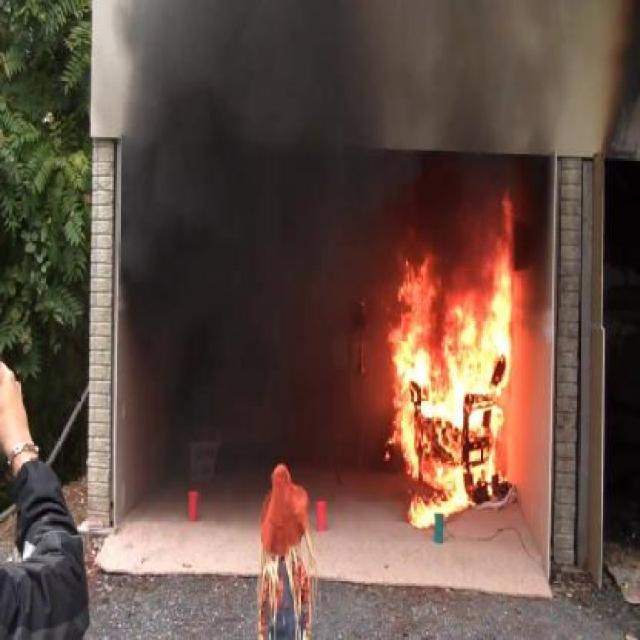fire: (389, 263, 523, 532)
smoke: (83, 59, 384, 502)
